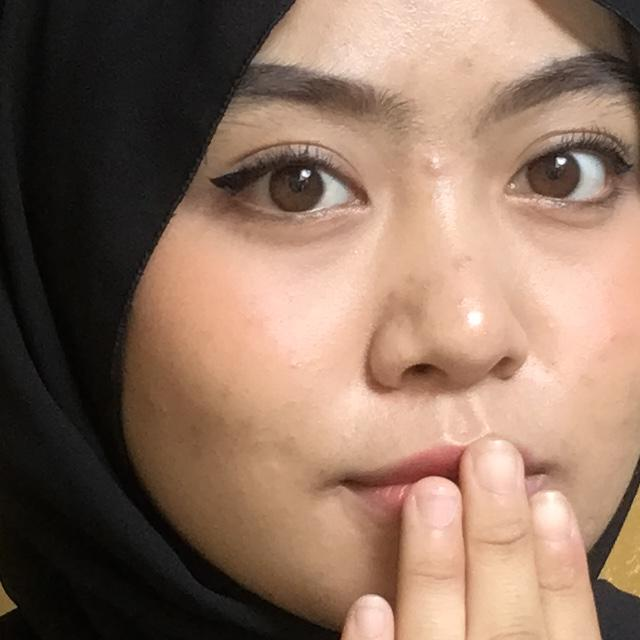ganteng: (250, 406, 640, 640)
